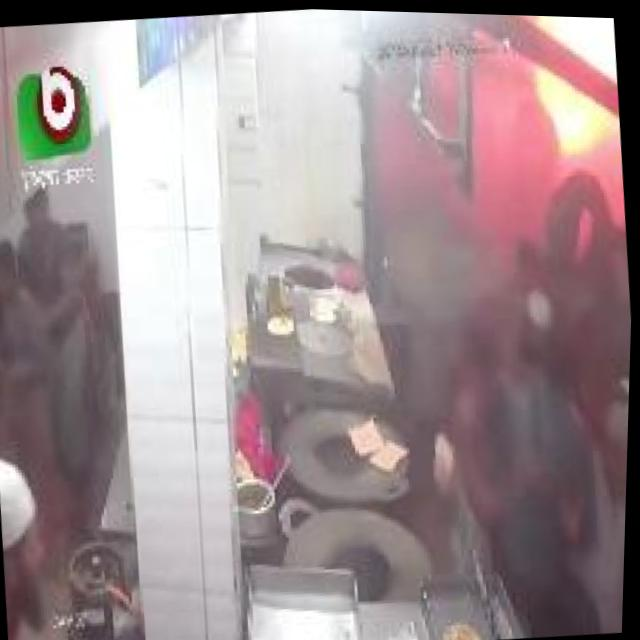fire: (524, 12, 626, 169)
